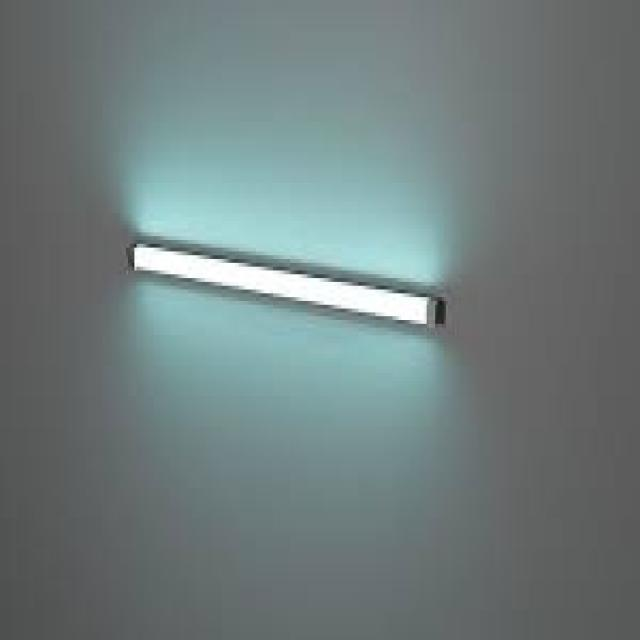tubelight_on: (123, 237, 453, 336)
